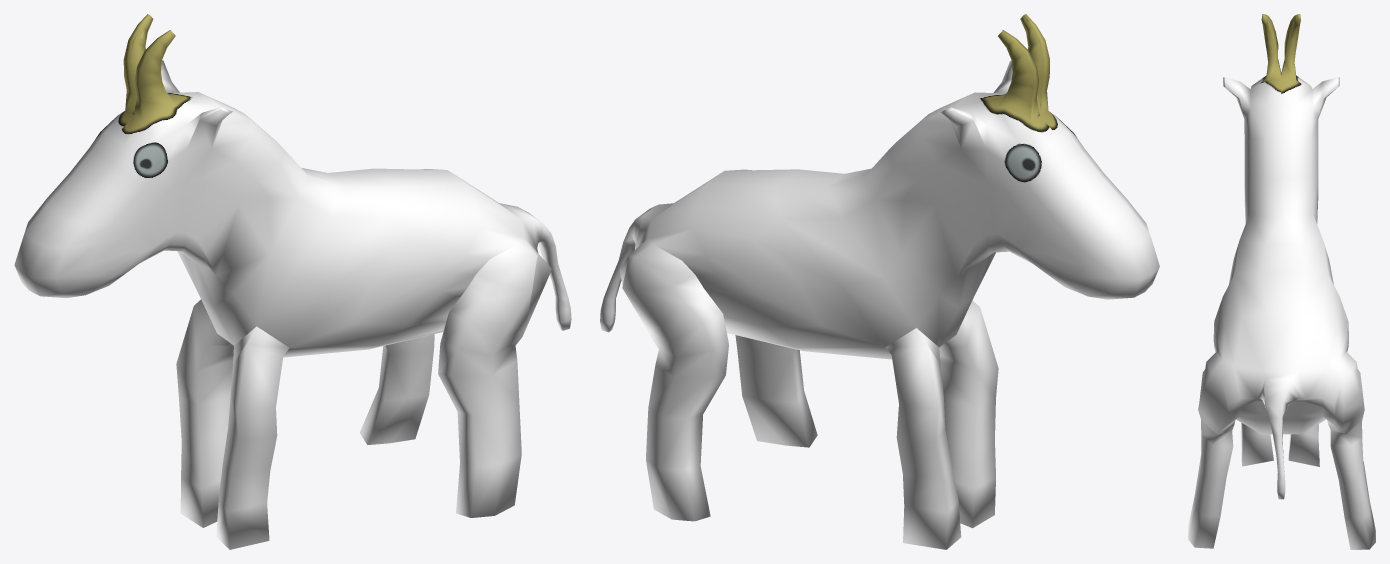
Rendered from goatAnim_000010.obj.
3 views of the same model, side by side, from view 1: azimuth 30°, elevation 25°; view 2: azimuth 150°, elevation 25°; view 3: azimuth 270°, elevation 25° (orthographic). The views are drawn at different scales.
Parts seen in each view (by area): view 1: Cube; view 2: Cube; view 3: Cube.
Part boxes in pixels (x1,y1,x2,y2): Cube: [14, 14, 571, 549]; Cube: [600, 14, 1159, 549]; Cube: [1188, 14, 1375, 549].
Size of the model in its own units: 1.31 by 1.19 by 0.4842.
